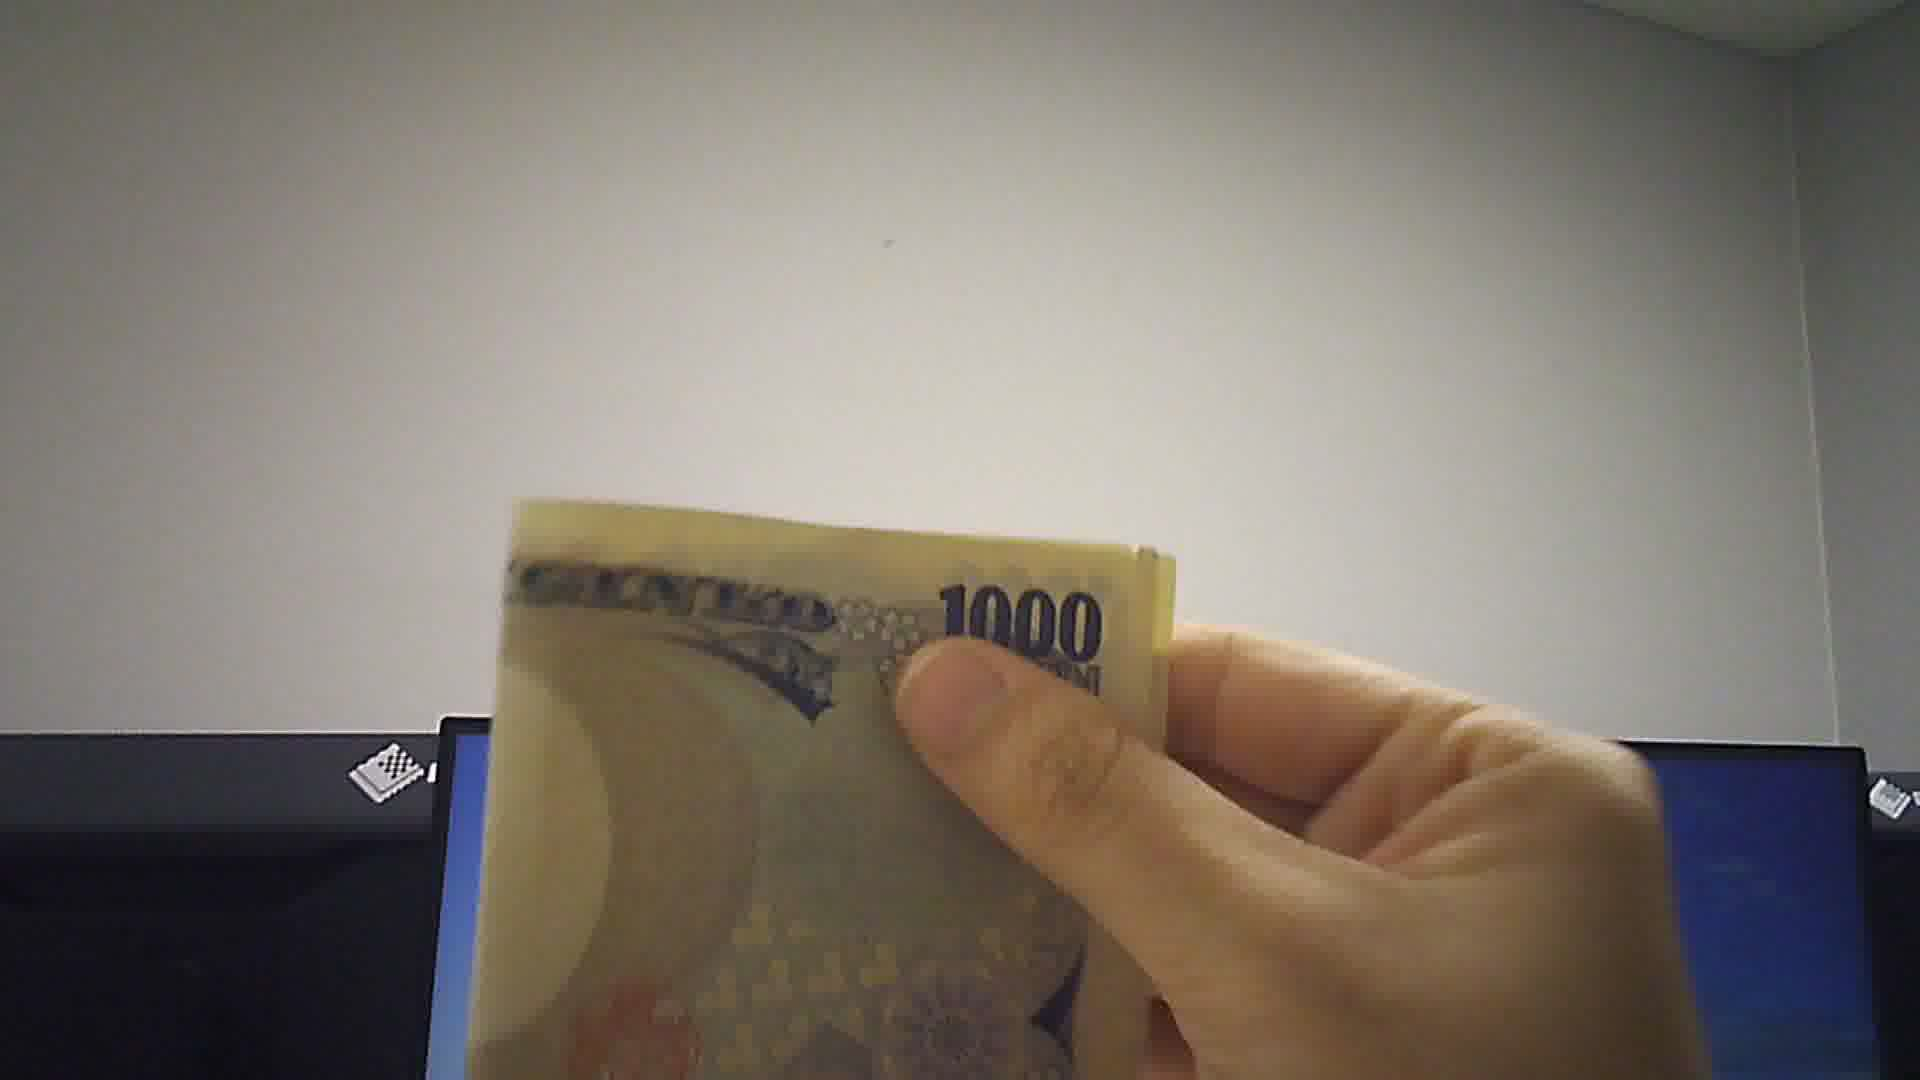1,000 Yen: (496, 487, 1179, 1062)
